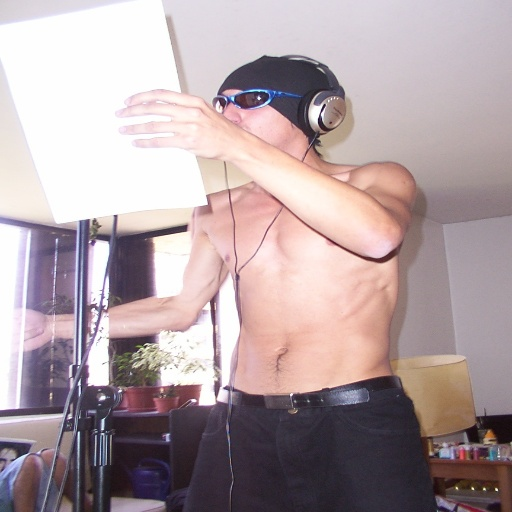hand: (113, 77, 247, 160), (10, 306, 52, 351)
